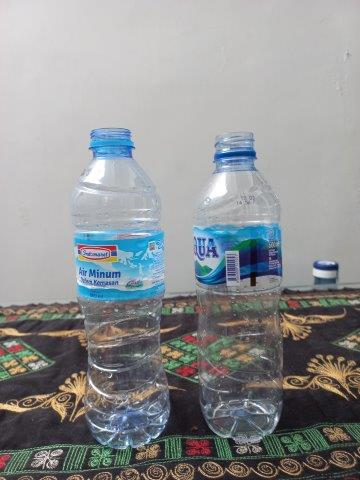botolplastik: (70, 128, 169, 449), (193, 131, 283, 442)
